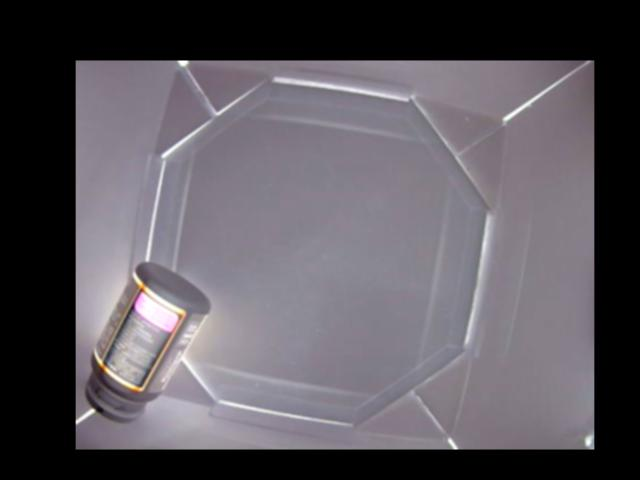Bottle: (79, 256, 211, 421)
